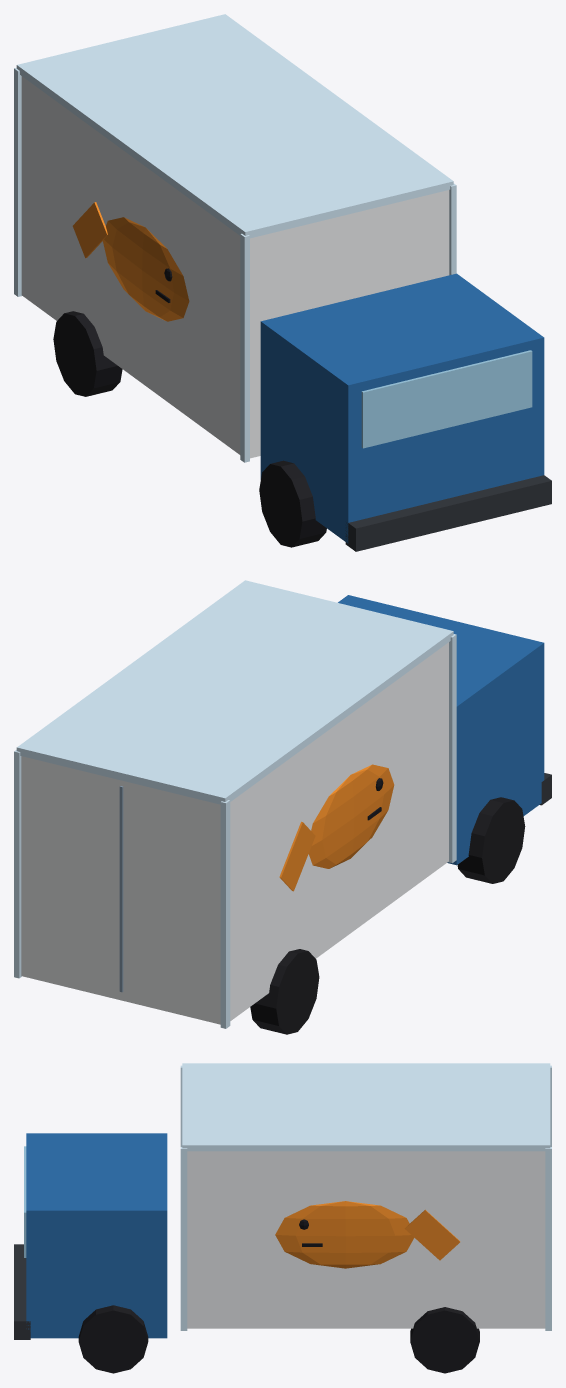
Rendered from fish_truck.glb.
3 renders of one model, top to bottom at view 1: azimuth 30°, elevation 25°; view 2: azimuth 150°, elevation 25°; view 3: azimuth 270°, elevation 25°, orthographic. The views are drawn at different scales.
Visible parts, largest first — view 1: box_truck_white, box_frost, cab_cab_blue, cab_car_glass, wheels_tire (×2), fish_fish_orange, cab_bumper; view 2: box_truck_white, box_frost, cab_cab_blue, wheels_tire (×2), fish_fish_orange, doors_door_line; view 3: box_truck_white, box_frost, cab_cab_blue, fish_fish_orange, wheels_tire (×2), cab_bumper.
Part boxes in pixels (box(x1,y1,x2,y2)): box_truck_white: box(21, 76, 449, 458); box_frost: box(14, 14, 456, 462); cab_cab_blue: box(260, 273, 544, 543); cab_car_glass: box(361, 350, 532, 448); wheels_tire (×2): box(53, 311, 326, 547); fish_fish_orange: box(72, 202, 189, 321); cab_bumper: box(345, 475, 551, 551); box_truck_white: box(21, 642, 448, 1024); box_frost: box(14, 580, 456, 1028); cab_cab_blue: box(338, 595, 544, 865); wheels_tire (×2): box(250, 797, 525, 1034); fish_fish_orange: box(279, 764, 394, 891); doors_door_line: box(119, 786, 123, 992); box_truck_white: box(187, 1151, 545, 1328); box_frost: box(180, 1063, 551, 1330); cab_cab_blue: box(26, 1133, 167, 1338); fish_fish_orange: box(275, 1201, 460, 1268); wheels_tire (×2): box(78, 1305, 479, 1373); cab_bumper: box(14, 1244, 30, 1339).
Bounding box in the file's own units: 2.5 × 3 × 6.49.
